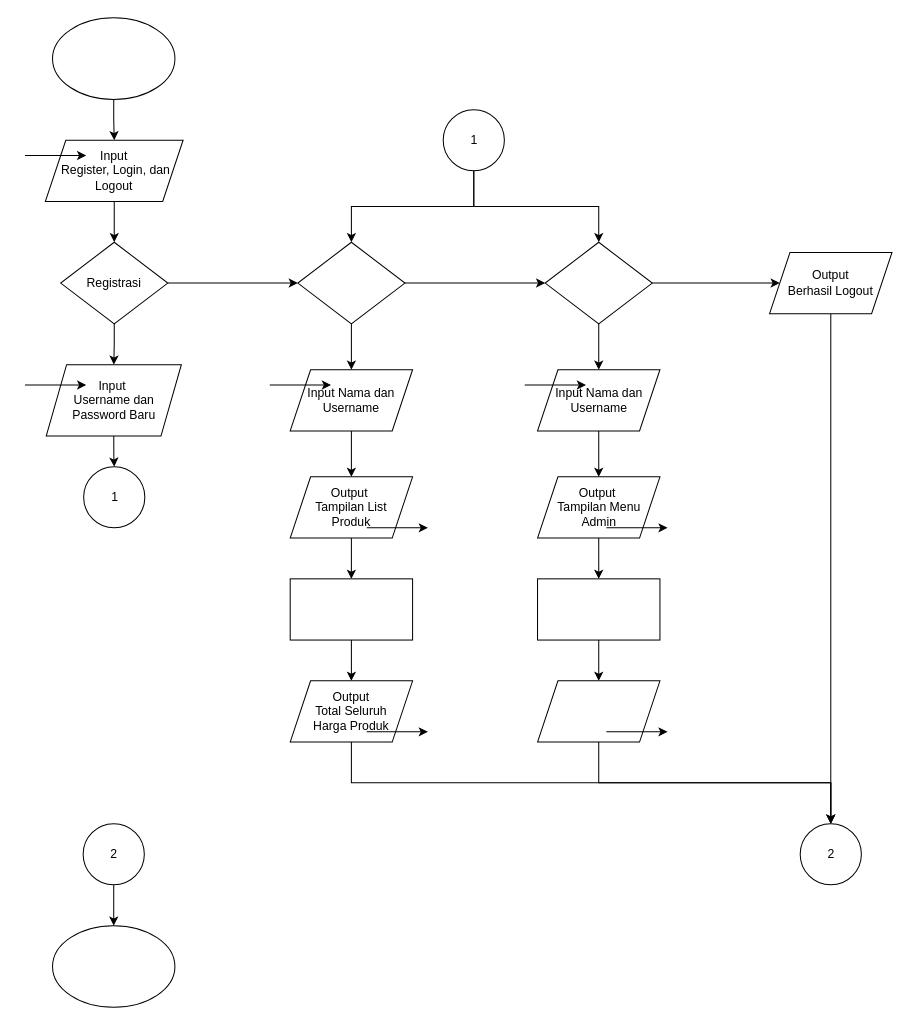
Image size: 910x1025. Some labels were removed from this diagram. The centre of each missing label's shape, as x and y in pixels:
End: point 113,966
Hitung Jumlah Produk: point 351,609
Login Admin: point 598,282
Login Customer: point 351,282
Output Jumlah Seluruh Stok Produk: point 598,711
Start: point 113,58
Tambah Stok Produk + Stok Tersedia: point 598,609
